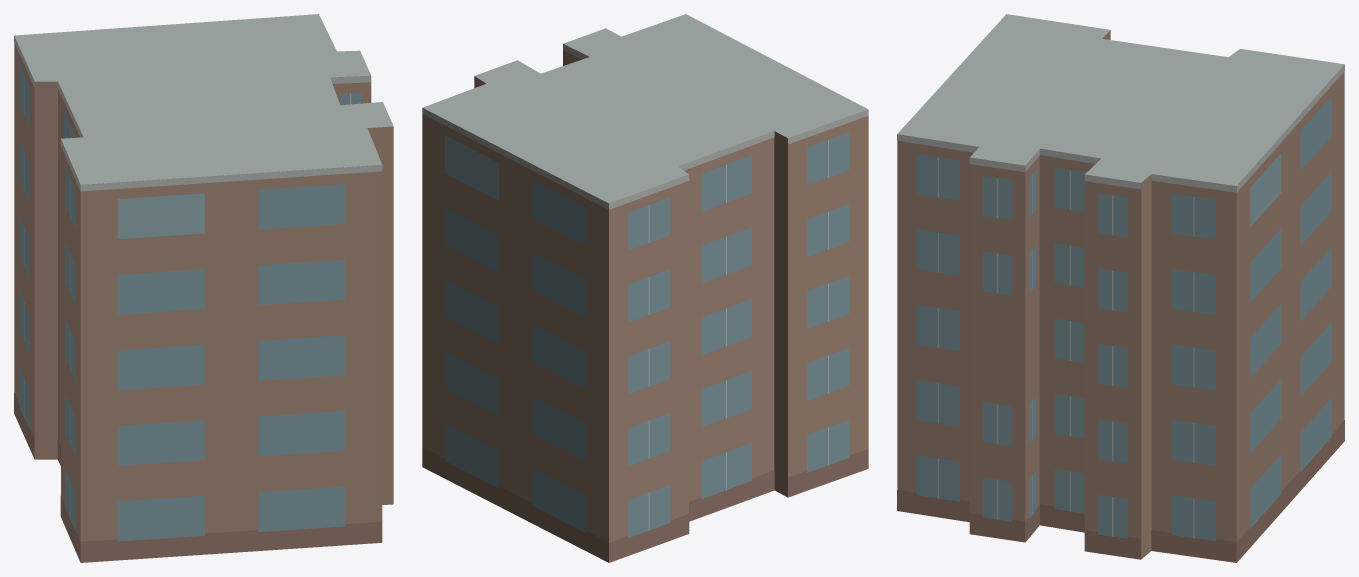
The model's file is survey-upis-32507110.glb.
3 renders of one model, left to right at view 1: azimuth 30°, elevation 25°; view 2: azimuth 150°, elevation 25°; view 3: azimuth 270°, elevation 25°, orthographic. The views are drawn at different scales.
Visible parts, largest first — view 1: survey-upis-32507110.tmp; view 2: survey-upis-32507110.tmp; view 3: survey-upis-32507110.tmp.
Boxes of the visible parts, <box> form: survey-upis-32507110.tmp: <box>14,14,393,562</box>; survey-upis-32507110.tmp: <box>422,14,868,562</box>; survey-upis-32507110.tmp: <box>897,14,1344,562</box>.
Bounding box in the file's own units: 13.67 × 13.95 × 15.03.
